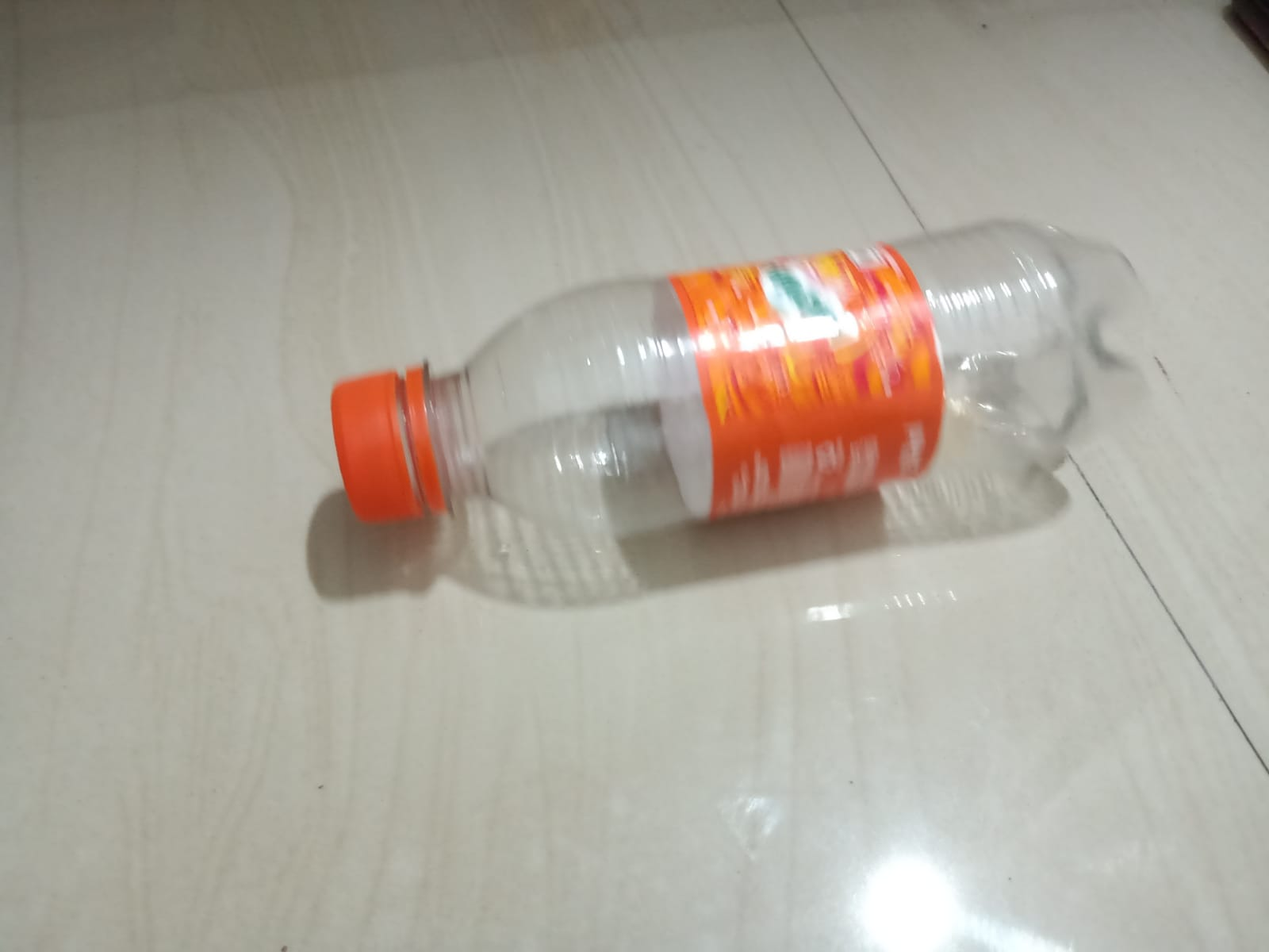plastic: (290, 248, 1156, 549)
